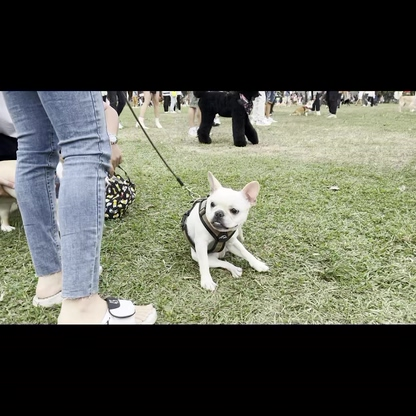bulldog: (179, 169, 271, 293)
